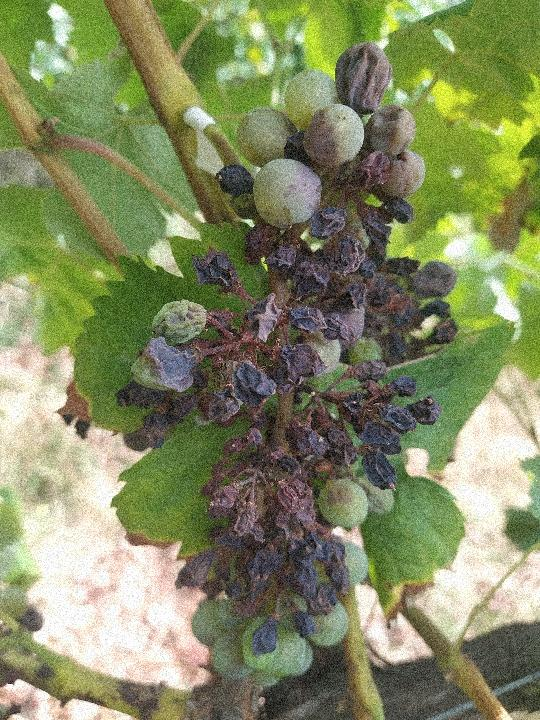grape: (113, 36, 467, 690)
